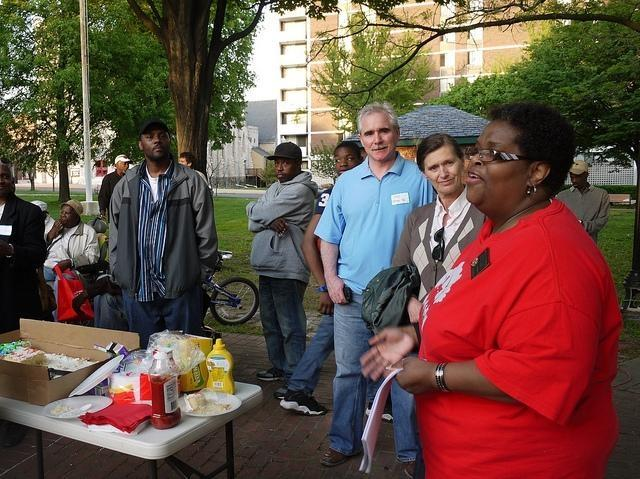bicycle: (204, 274, 261, 326)
